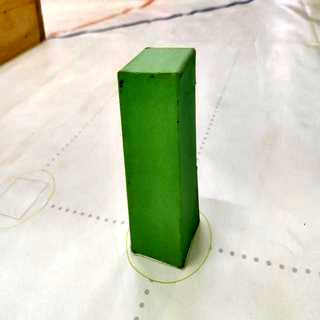greenbox: (116, 46, 202, 272)
